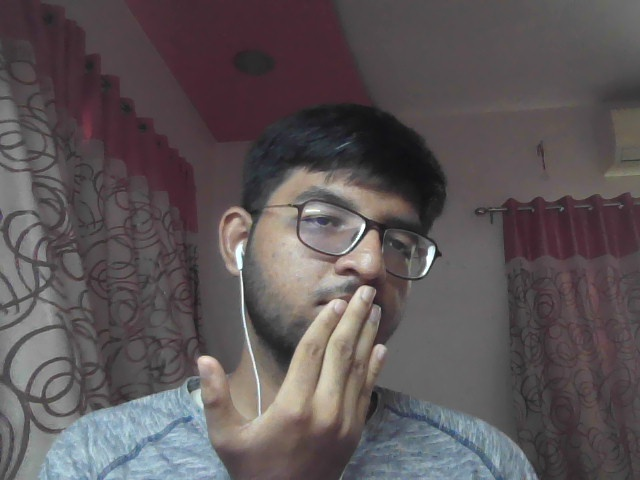આભાર: (193, 275, 388, 480)
